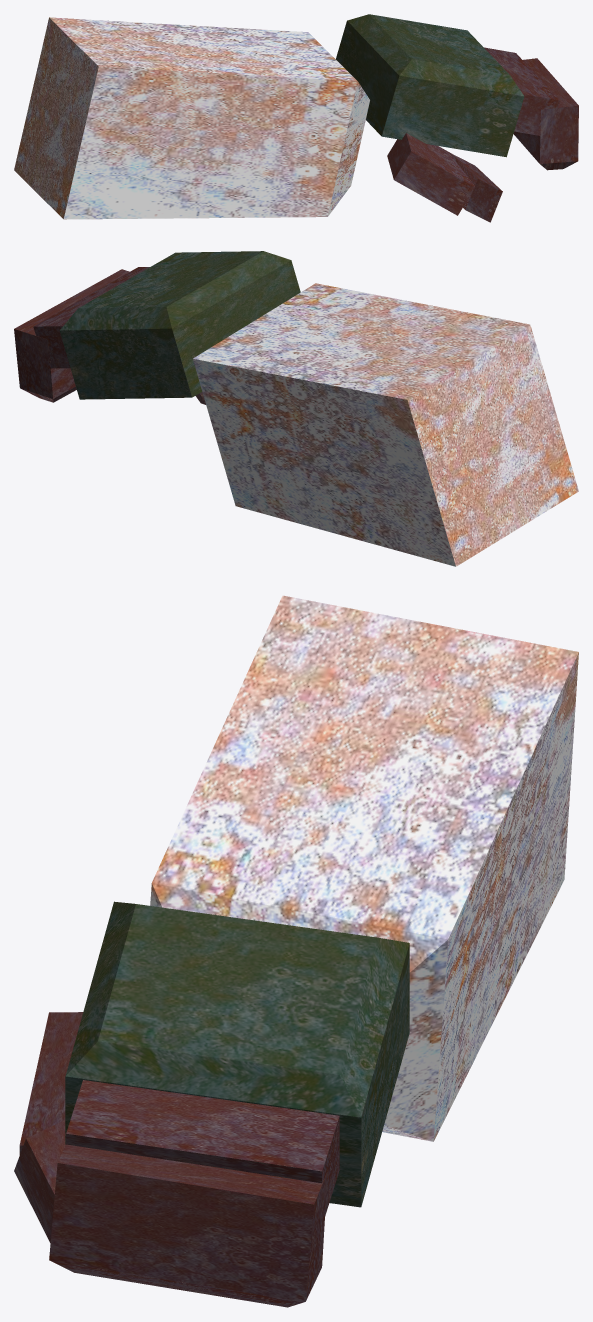
File: antebrazo_izq.obj
The picture shows the model from 3 angles, top to bottom: view 1: azimuth 30°, elevation 25°; view 2: azimuth 150°, elevation 25°; view 3: azimuth 270°, elevation 25°; orthographic projection. The views are drawn at different scales.
Parts seen in each view (by area): view 1: antebrazo_izq; view 2: antebrazo_izq; view 3: antebrazo_izq.
Part boxes in pixels (bbox=[...]): antebrazo_izq: bbox=[14, 14, 578, 222]; antebrazo_izq: bbox=[14, 251, 578, 566]; antebrazo_izq: bbox=[14, 595, 578, 1307].
Size of the model in its own units: 5.01 by 1.91 by 2.69.
Materials: 3 (3 with a texture image).
